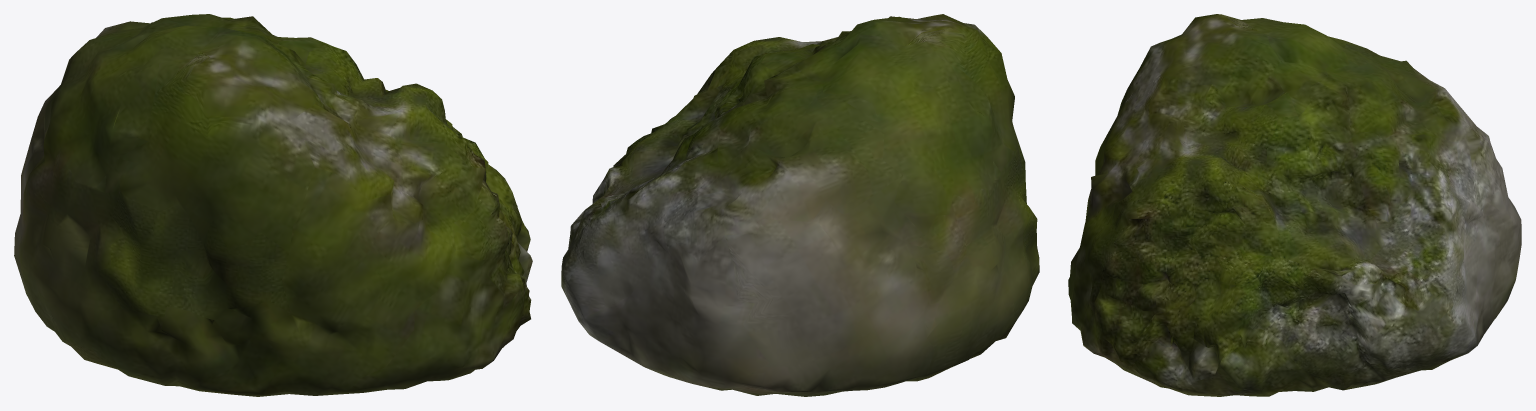
File: woods_rock.glb
3 views of the same model, side by side, from view 1: azimuth 30°, elevation 25°; view 2: azimuth 150°, elevation 25°; view 3: azimuth 270°, elevation 25° (orthographic). The views are drawn at different scales.
Visible parts, largest first — view 1: Rock; view 2: Rock; view 3: Rock.
Boxes of the visible parts, x1,y1,x2,y2 form: Rock: (14, 14, 532, 396); Rock: (561, 14, 1039, 396); Rock: (1068, 14, 1521, 396).
Size of the model in its own units: 1.76 by 1.2 by 1.88.
1 material, 1 textured.
